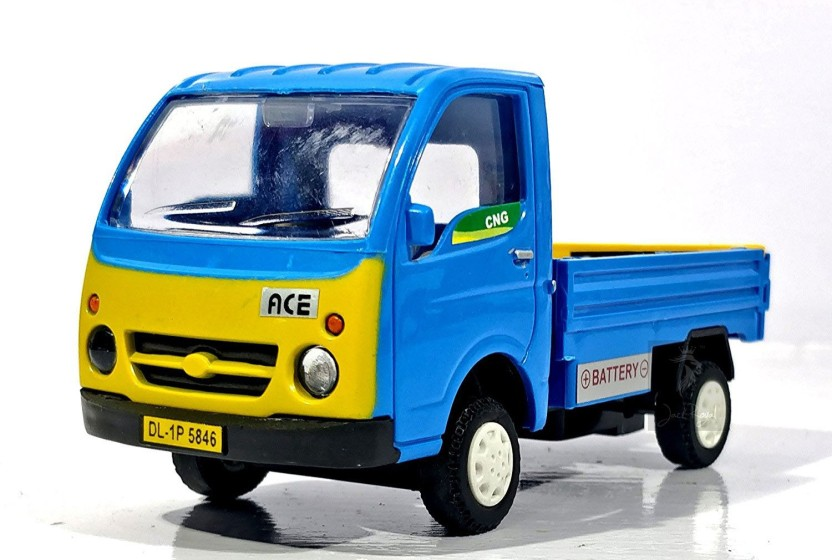Truck: (68, 55, 776, 539)
